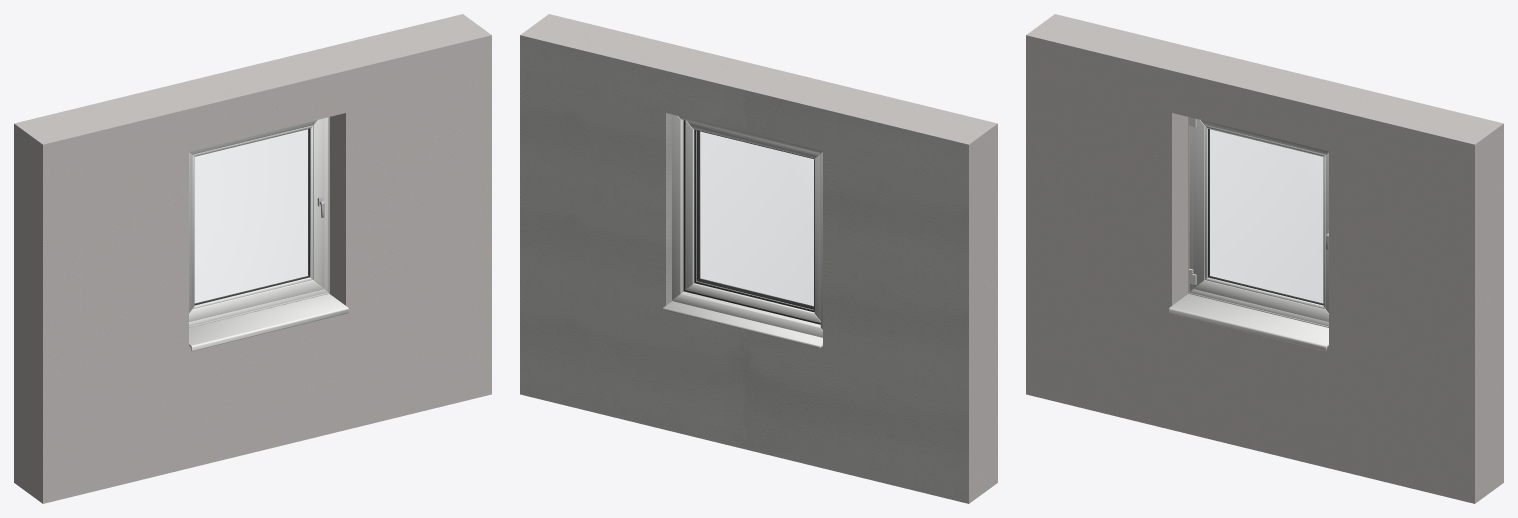
The model's file is fenster.glb.
3 views of the same model, side by side, from view 1: azimuth 30°, elevation 25°; view 2: azimuth 150°, elevation 25°; view 3: azimuth 330°, elevation 25° (orthographic).
Parts seen in each view (by area): view 1: Wand, Glas, Fluegel, Fensterbank, Glasleiste, Rahmen_rechts, Rahmen_unten, Anschlussfuge, Dichtung; view 2: Wand, Glas, Fluegel, Rahmen_rechts, Dichtung, Rahmen_unten, Fensterbank, Anschlagdichtung, Rahmen_links; view 3: Wand, Glas, Fluegel, Fensterbank, Glasleiste, Rahmen_links, Rahmen_unten, Anschlussfuge, Dichtung.
Part boxes in pixels (box(x1,y1,x2,y2)): Wand: box(14, 14, 491, 503); Glas: box(195, 129, 308, 303); Fluegel: box(189, 118, 324, 321); Fensterbank: box(189, 294, 348, 351); Glasleiste: box(192, 125, 313, 309); Rahmen_rechts: box(324, 117, 328, 291); Rahmen_unten: box(189, 289, 328, 326); Anschlussfuge: box(189, 117, 329, 327); Dichtung: box(194, 129, 309, 305); Wand: box(520, 14, 997, 503); Glas: box(696, 131, 813, 309); Fluegel: box(685, 120, 820, 322); Rahmen_rechts: box(672, 114, 683, 300); Dichtung: box(694, 129, 814, 312); Rahmen_unten: box(672, 291, 822, 337); Fensterbank: box(663, 301, 822, 348); Anschlagdichtung: box(683, 120, 820, 324); Rahmen_links: box(820, 152, 822, 329); Wand: box(1026, 14, 1503, 503); Glas: box(1209, 129, 1322, 303); Fluegel: box(1193, 119, 1328, 321); Fensterbank: box(1169, 294, 1328, 351); Glasleiste: box(1204, 125, 1325, 309); Rahmen_links: box(1189, 126, 1193, 291); Rahmen_unten: box(1189, 289, 1328, 326); Anschlussfuge: box(1188, 117, 1328, 327); Dichtung: box(1208, 129, 1323, 305).
Bounding box in the file's own units: 3.4 × 2.6 × 0.46.
Materials: 9 (2 with a texture image).
